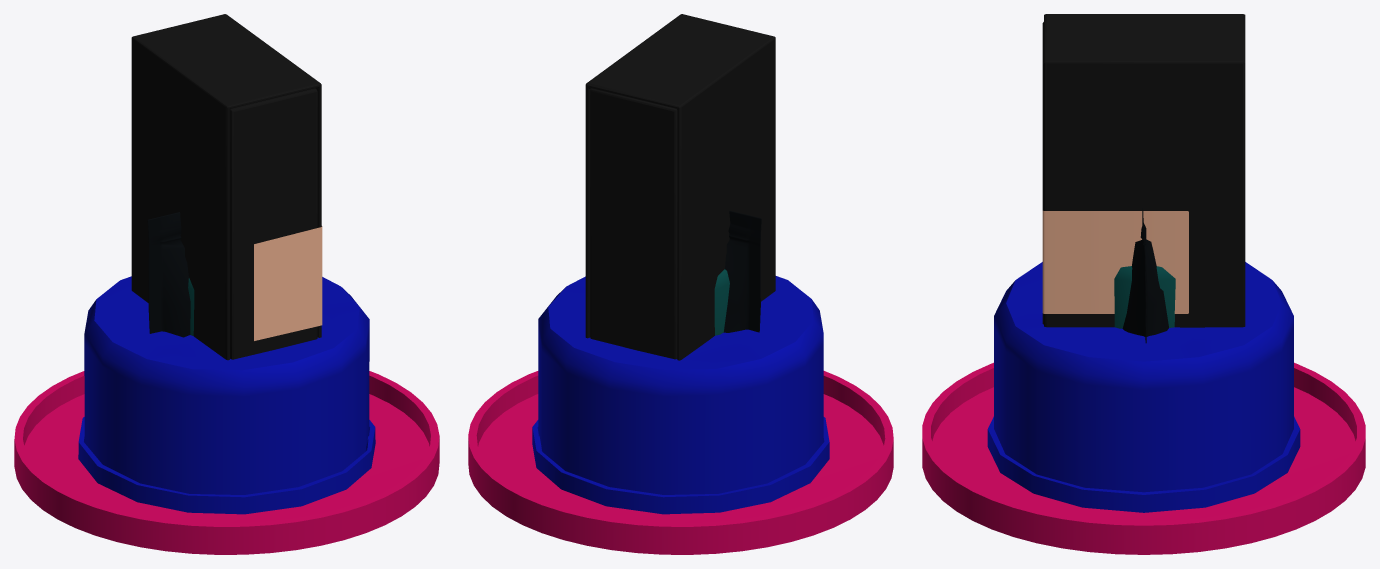
File: Cafe-Tableware.FBX
3 views of the same model, side by side, from view 1: azimuth 30°, elevation 25°; view 2: azimuth 150°, elevation 25°; view 3: azimuth 270°, elevation 25° (orthographic). The views are drawn at different scales.
Parts seen in each view (by area): view 1: Coffee_Box010, Plate, Tray, Coffee_Company1; view 2: Coffee_Box010, Plate, Tray, Coffee_Company1, Moka_Origins3; view 3: Coffee_Box010, Plate, Tray, Coffee_Company1, Moka_Origins3.
Part boxes in pixels (left/top/right/bottom): Coffee_Box010: left=131, top=14, right=322, bottom=360; Plate: left=78, top=276, right=375, bottom=514; Tray: left=14, top=371, right=439, bottom=554; Coffee_Company1: left=147, top=212, right=190, bottom=337; Coffee_Box010: left=585, top=14, right=775, bottom=360; Plate: left=532, top=276, right=829, bottom=514; Tray: left=468, top=371, right=893, bottom=554; Coffee_Company1: left=723, top=210, right=761, bottom=332; Moka_Origins3: left=714, top=269, right=729, bottom=335; Coffee_Box010: left=1042, top=14, right=1245, bottom=327; Plate: left=987, top=262, right=1300, bottom=512; Tray: left=922, top=362, right=1365, bottom=554; Coffee_Company1: left=1122, top=208, right=1168, bottom=343; Moka_Origins3: left=1114, top=266, right=1175, bottom=328.
Bounding box in the file's own units: 0.0952 × 0.1003 × 0.095.
